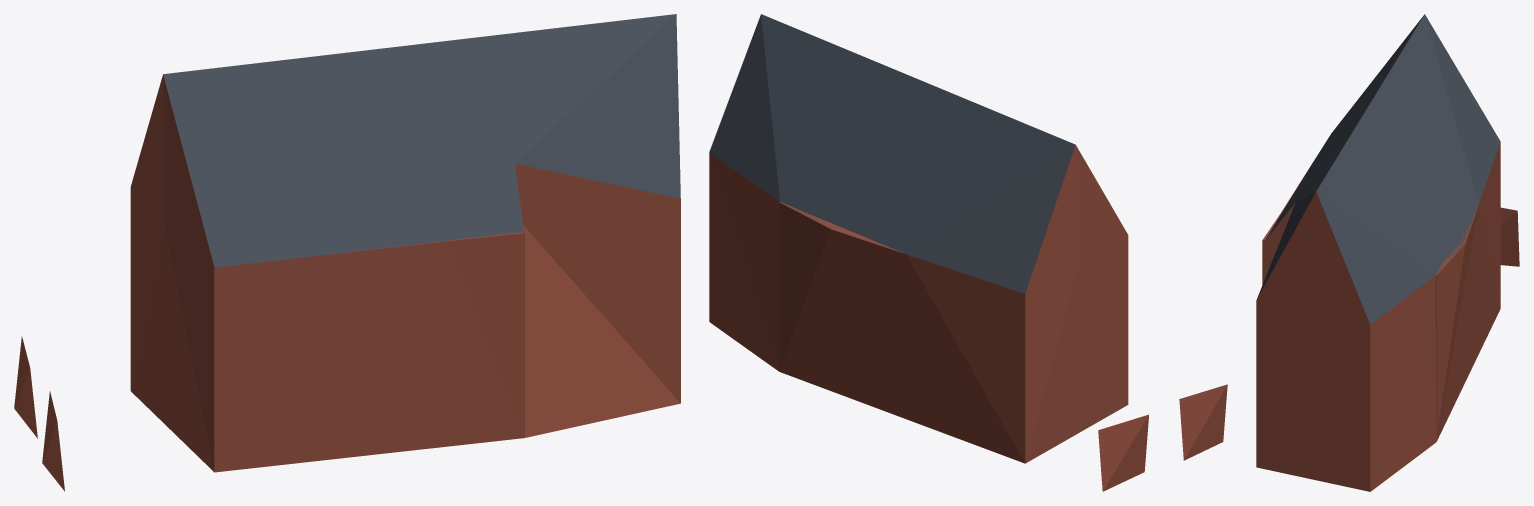
The model's file is agnietenkapel.lod2.glb.
The picture shows the model from 3 angles, left to right: view 1: azimuth 30°, elevation 25°; view 2: azimuth 150°, elevation 25°; view 3: azimuth 270°, elevation 25°; orthographic projection. The views are drawn at different scales.
Visible parts, largest first — view 1: lod2; view 2: lod2; view 3: lod2.
Part boxes in pixels (<box>): lod2: <box>14,14,680,491</box>; lod2: <box>709,14,1227,491</box>; lod2: <box>1256,14,1519,491</box>.
Size of the model in its own units: 34.25 by 18.7 by 15.46.
